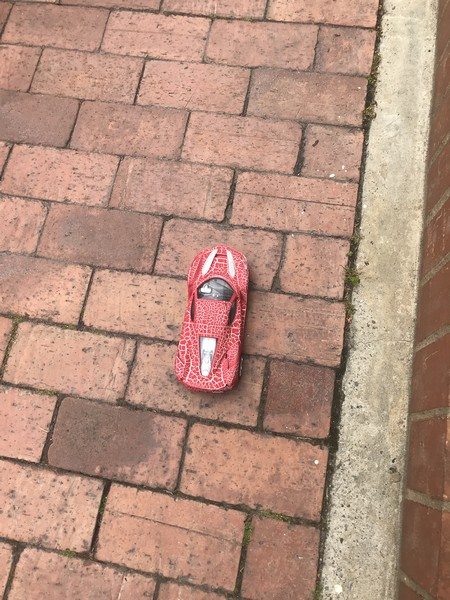RC: (171, 245, 248, 395)
